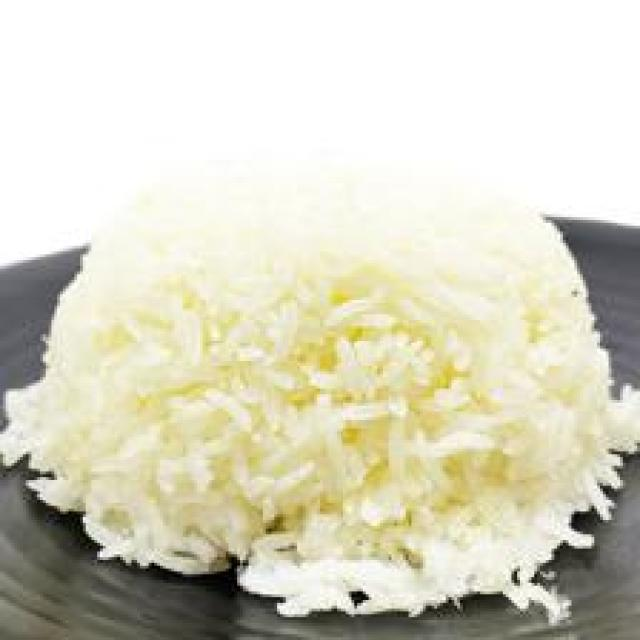Wet Waste: (0, 145, 640, 623)
